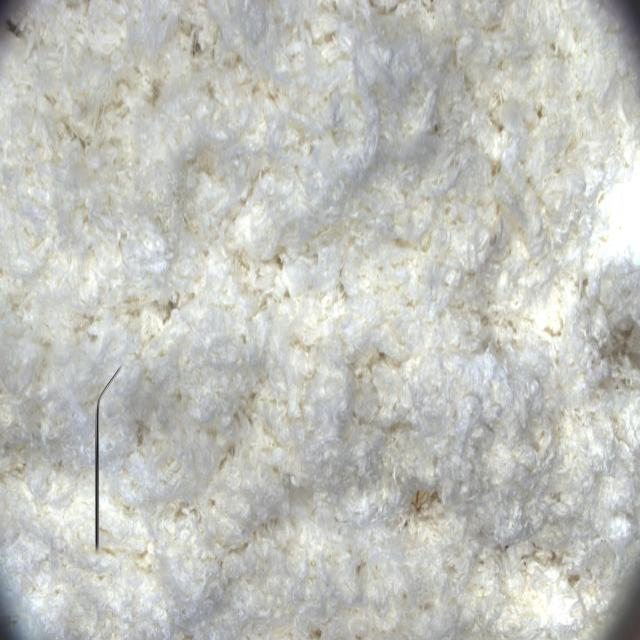dust: (64, 342, 138, 577)
